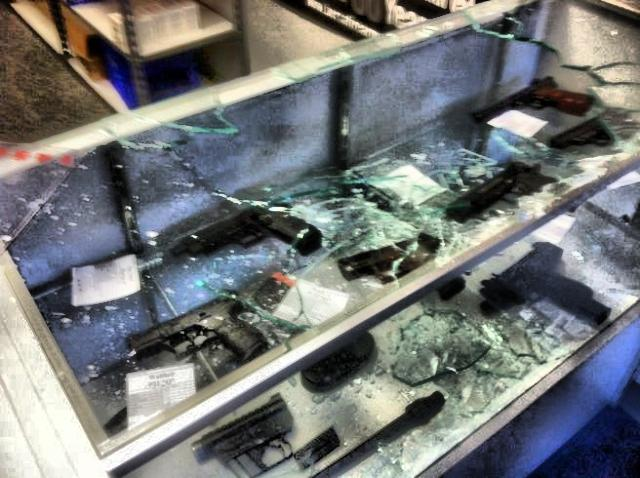pistol: (173, 198, 323, 266), (119, 294, 267, 360), (462, 73, 600, 123), (345, 230, 455, 285), (434, 161, 560, 209), (538, 116, 630, 142)
